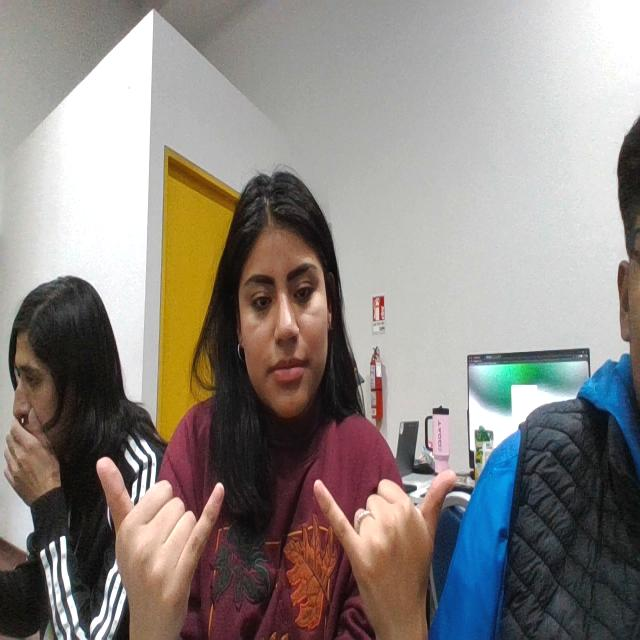now: (87, 444, 460, 640)
